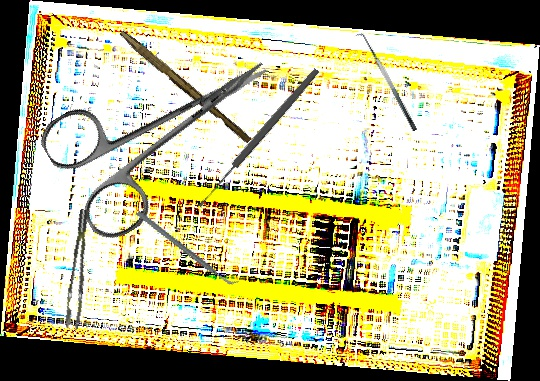Chopper: (134, 185, 240, 311)
Iris Scissors: (33, 13, 302, 248)
Scalpel Handle: (115, 29, 255, 145)
Spatula Surgical: (353, 29, 419, 136)
Surgical Spoon: (195, 66, 321, 210)
Tissue Forceps: (53, 208, 105, 331)
